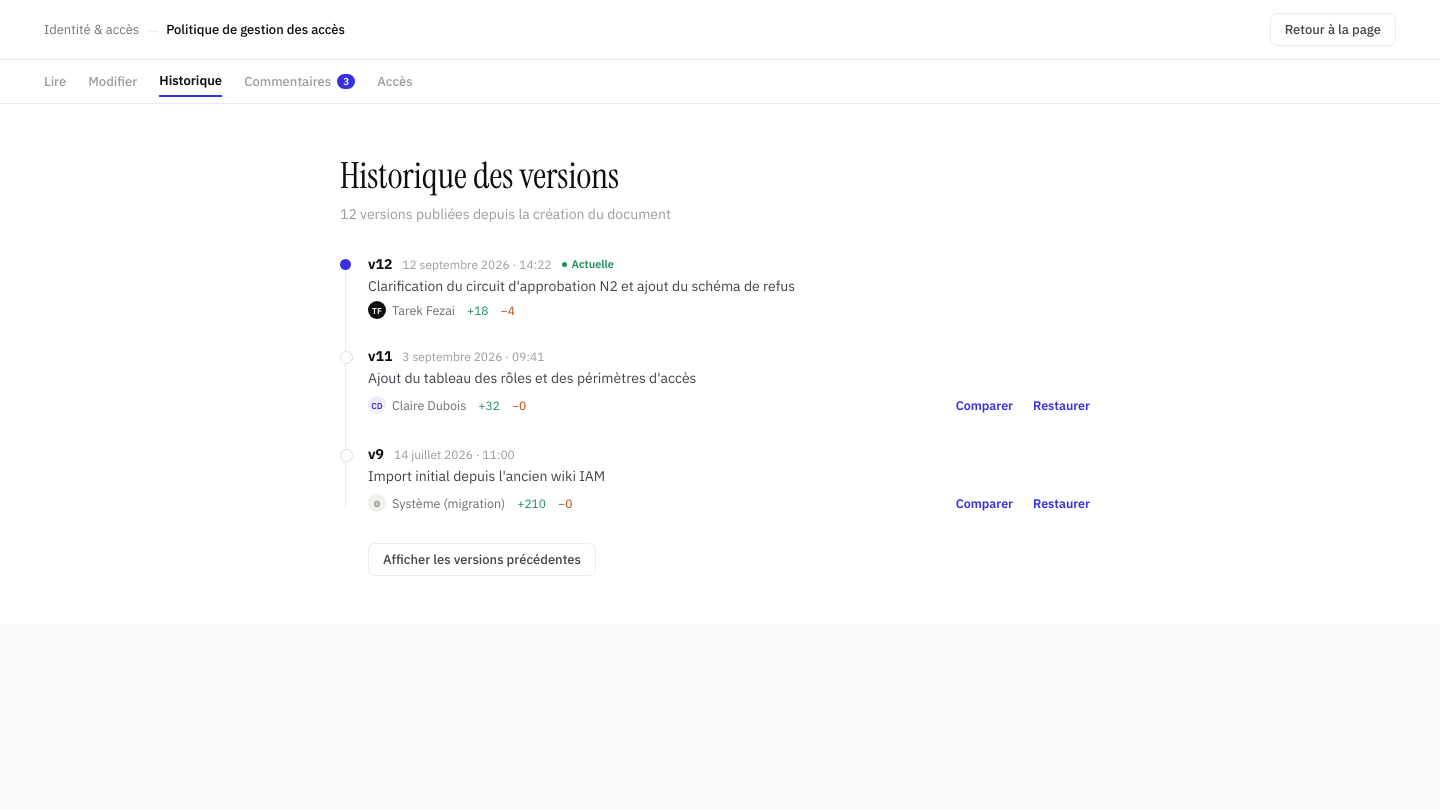
DocumentHistoryPage › confirmer la restauration appelle l’API avec expectedVersionNo puis affiche le statut
Click the button "Restaurer" in the row of "+32".
click(1062, 405)  # box [1023,393,1100,417]
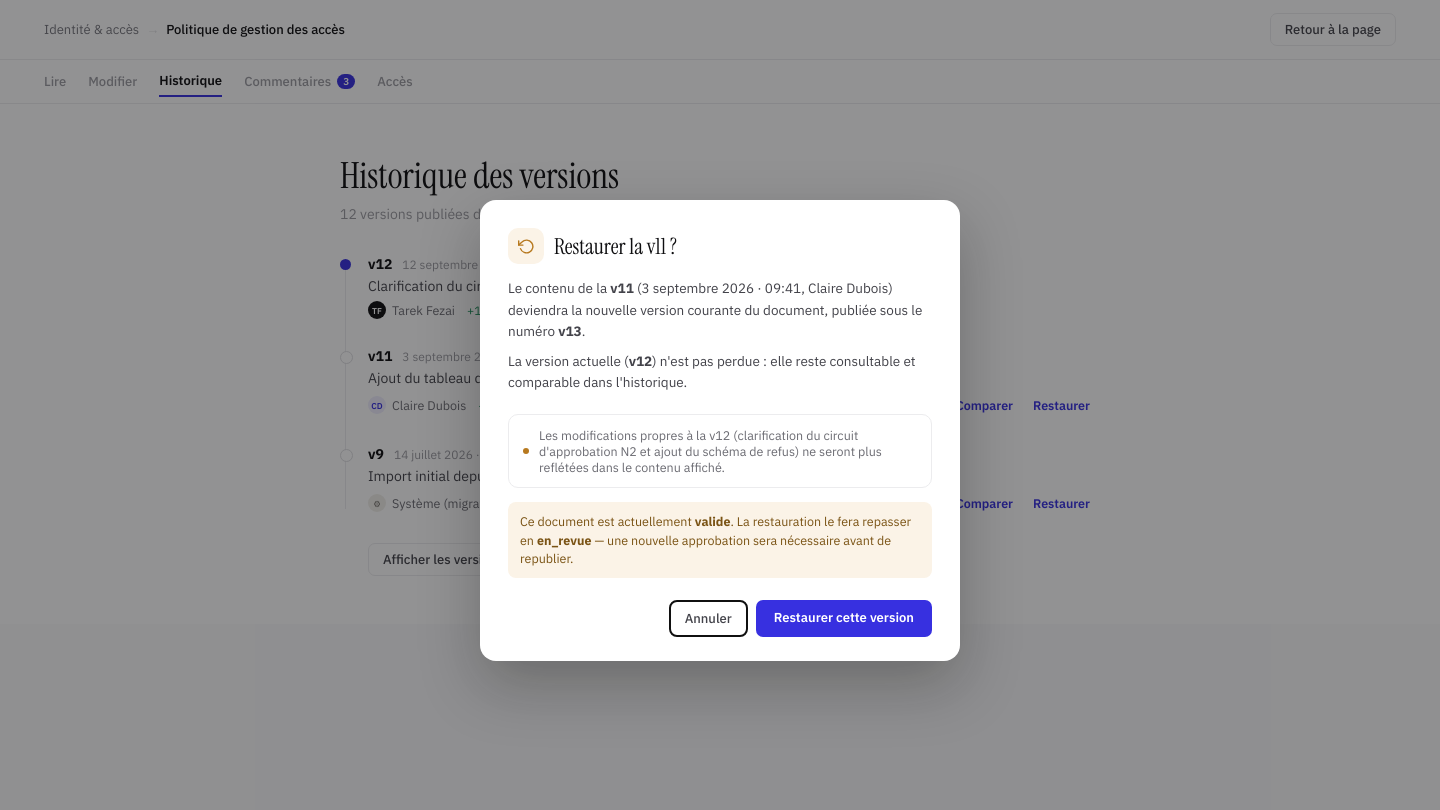
Click the button with test id "restore-confirm".
click(844, 619)  # box [756,600,932,637]
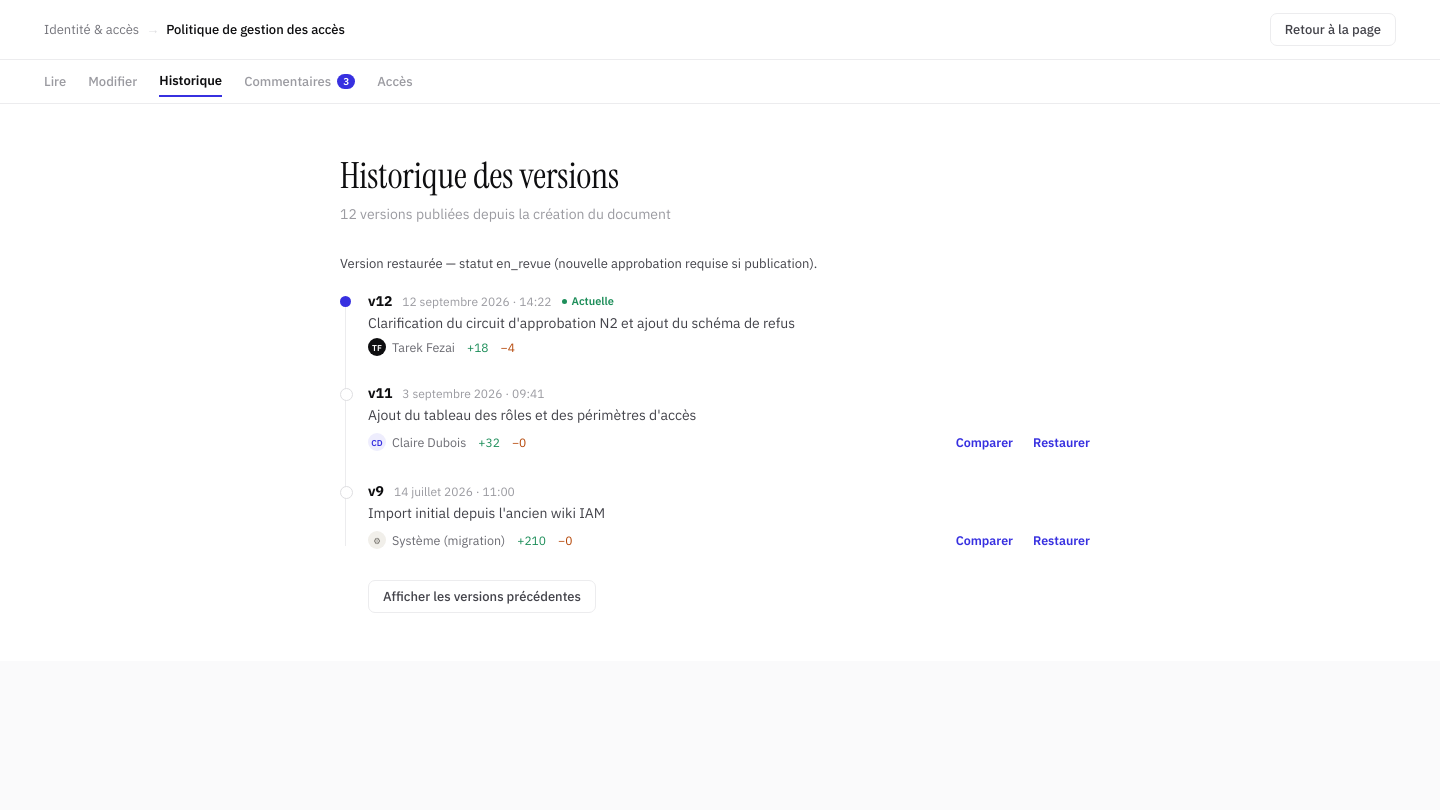
Expected: the message with test id "history-status-note" shows "statut en_revue", [340,255,817,272]
Expected: the dialog is gone
